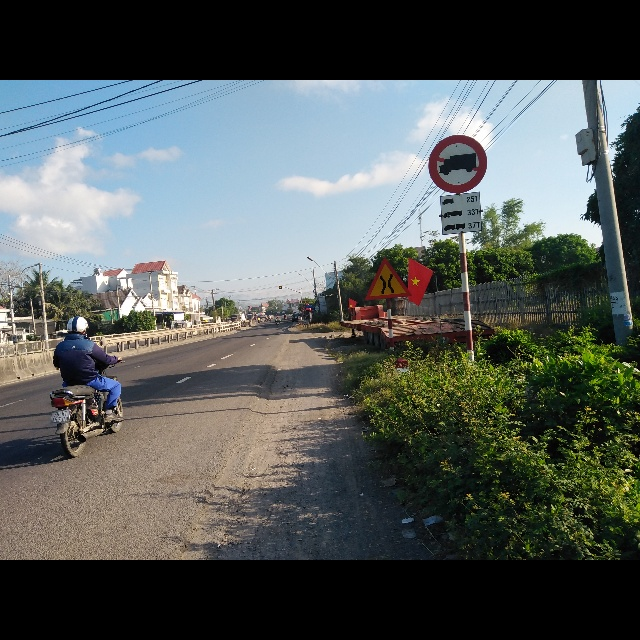Cấm xe tải: (426, 133, 487, 192)
Cầu hẹp: (365, 258, 411, 302)
